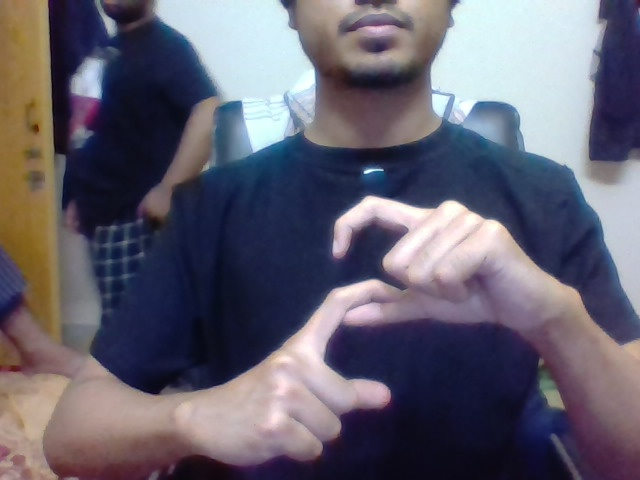S: (320, 193, 418, 390)
